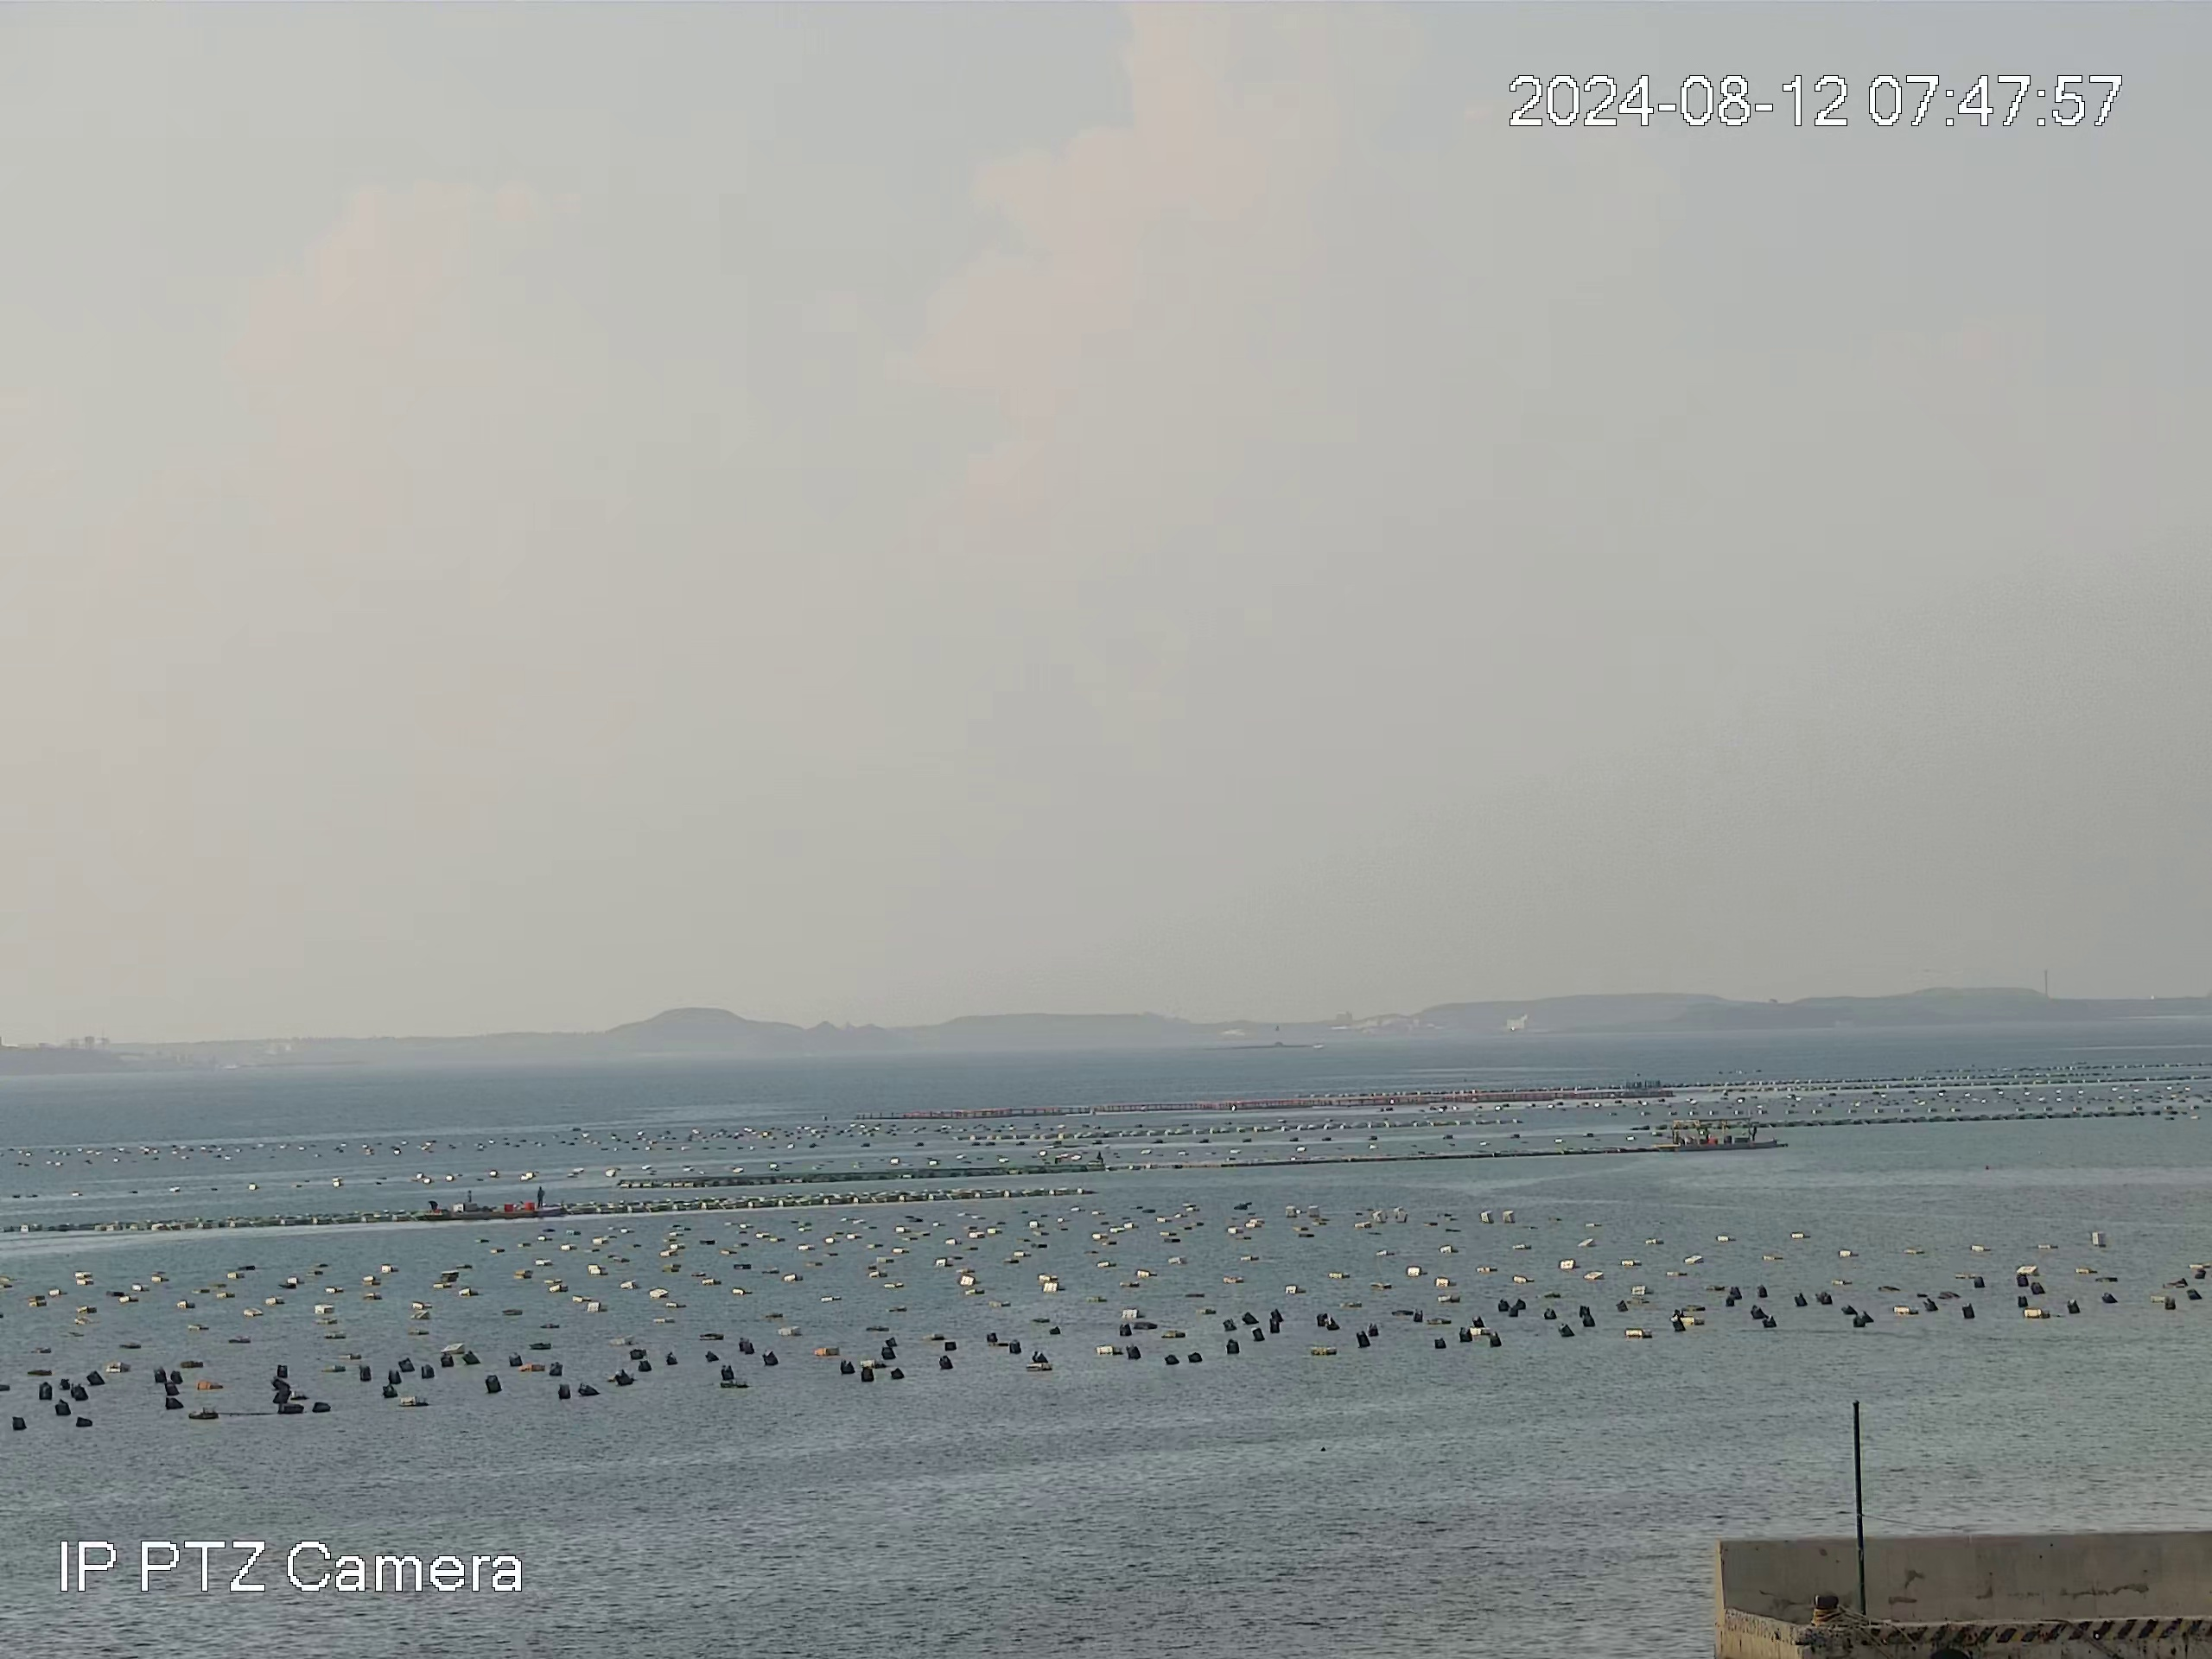boat: (425, 1187, 566, 1222), (1670, 1117, 1754, 1150)
